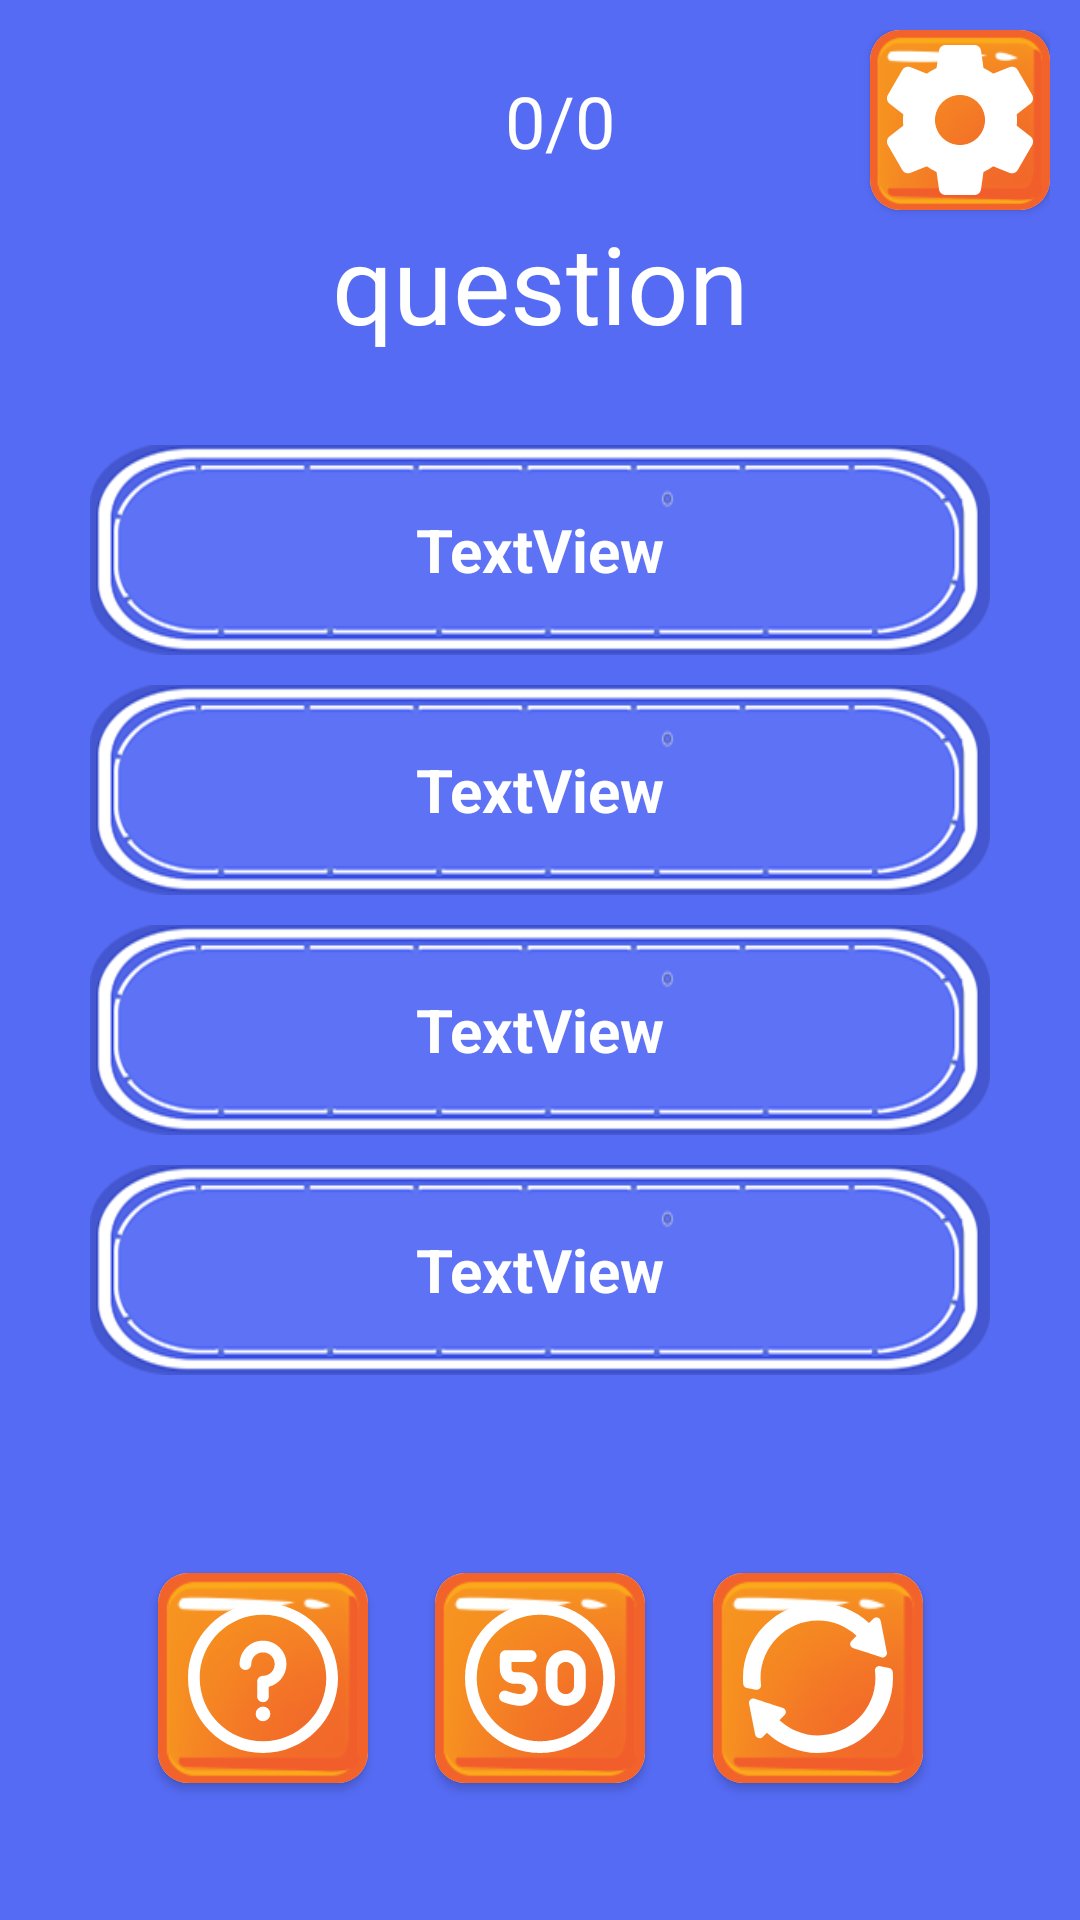

Named icons in this screenshot (1080 × 1920) and their centers, (x=x, y=y):
information: (x=263, y=1678)
settings: (x=960, y=120)
swap: (x=818, y=1678)
